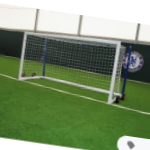goals: (17, 29, 123, 108)
